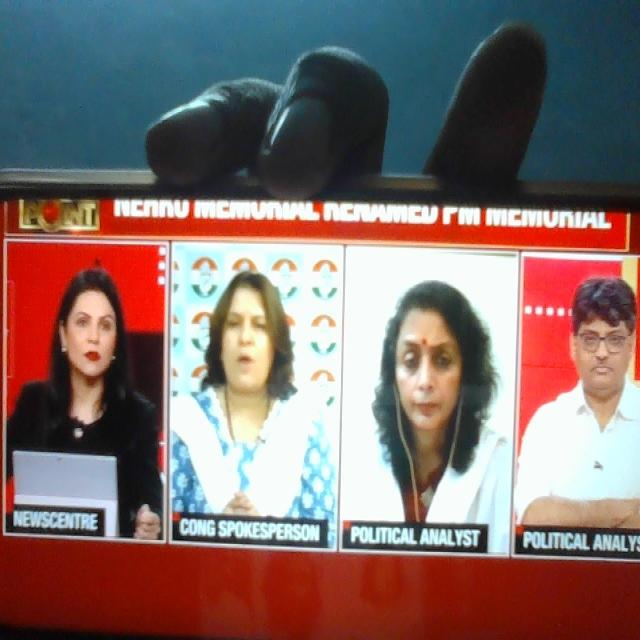fake: (373, 254, 485, 466)
